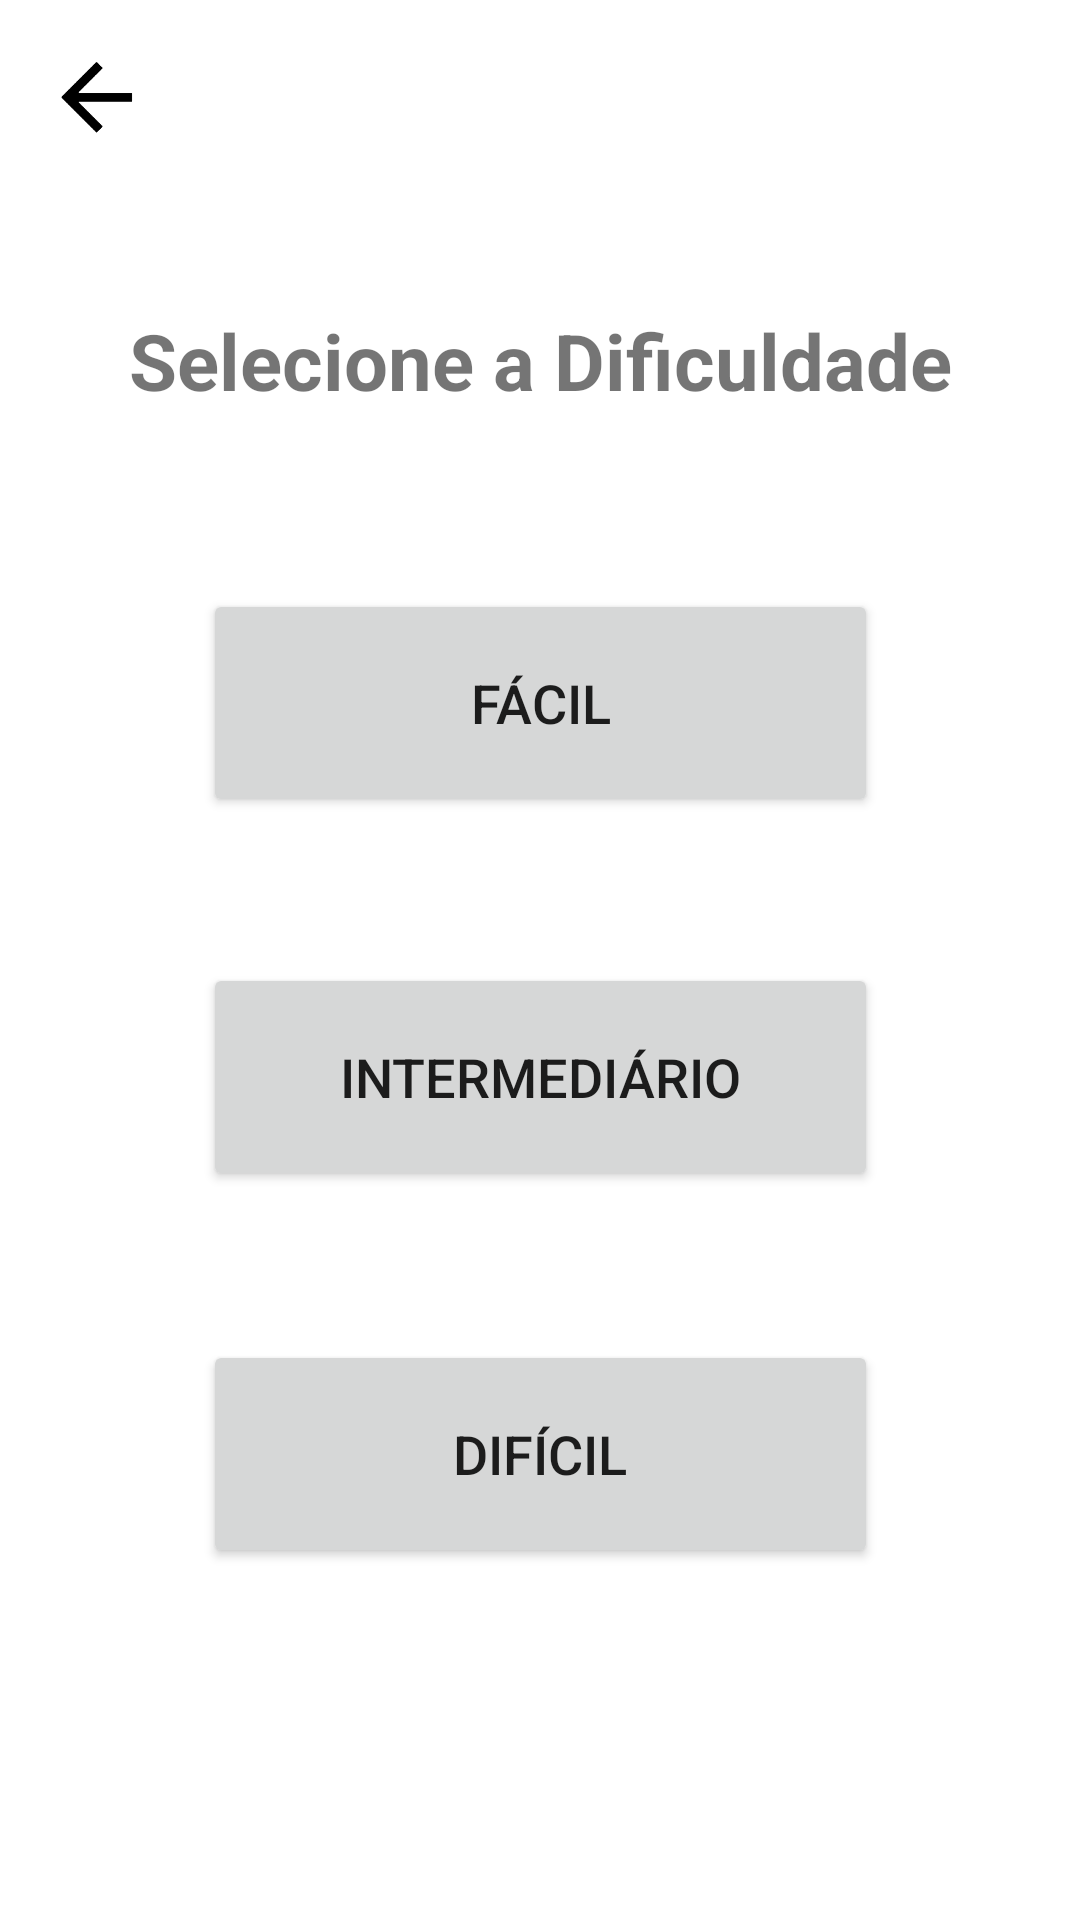

Screen size 1080 x 1920. Icon name, then its box in pixels as (x1,y1,x2,y2):
voltarp: (61,62,132,133)
